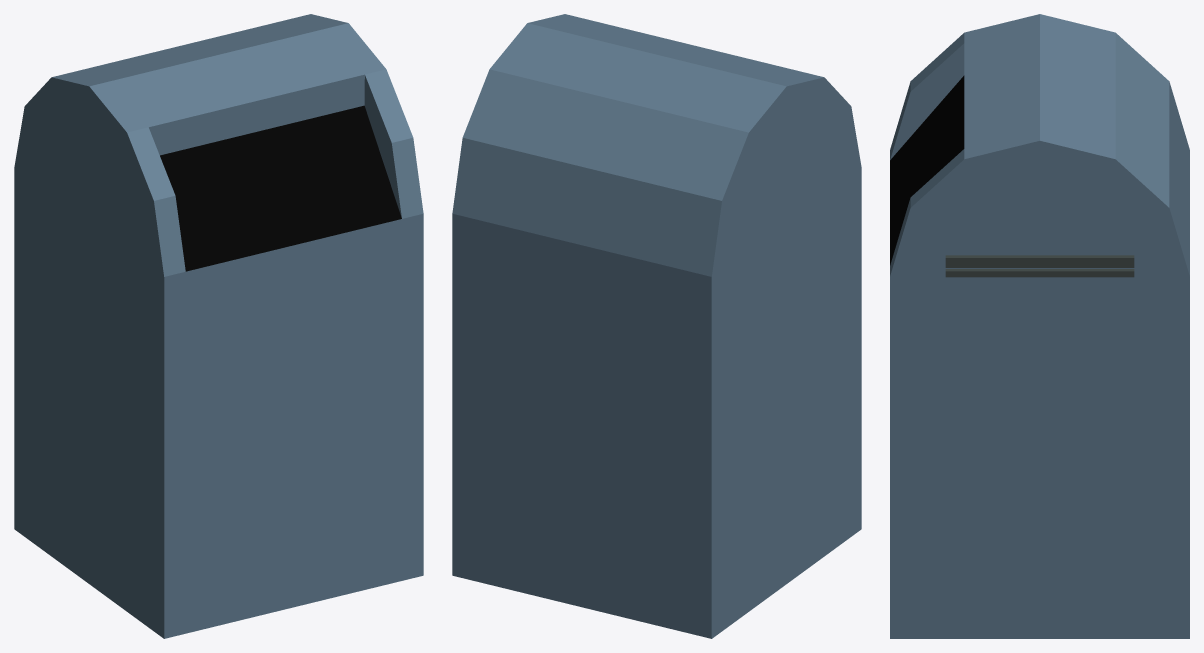
File: MAIL30.glb
3 renders of one model, left to right at view 1: azimuth 30°, elevation 25°; view 2: azimuth 150°, elevation 25°; view 3: azimuth 270°, elevation 25°, orthographic.
Parts seen in each view (by area): view 1: MAIL30 | archived geometry; view 2: MAIL30 | archived geometry; view 3: MAIL30 | archived geometry, Fitted street and landscape details.
Boxes of the visible parts, x1=… form: MAIL30 | archived geometry: x1=14, y1=14, x2=423, y2=638; MAIL30 | archived geometry: x1=452, y1=14, x2=861, y2=638; MAIL30 | archived geometry: x1=890, y1=14, x2=1189, y2=638; Fitted street and landscape details: x1=945, y1=255, x2=1134, y2=277.
Bounding box in the file's own units: 0.842 × 1.51 × 0.825.
